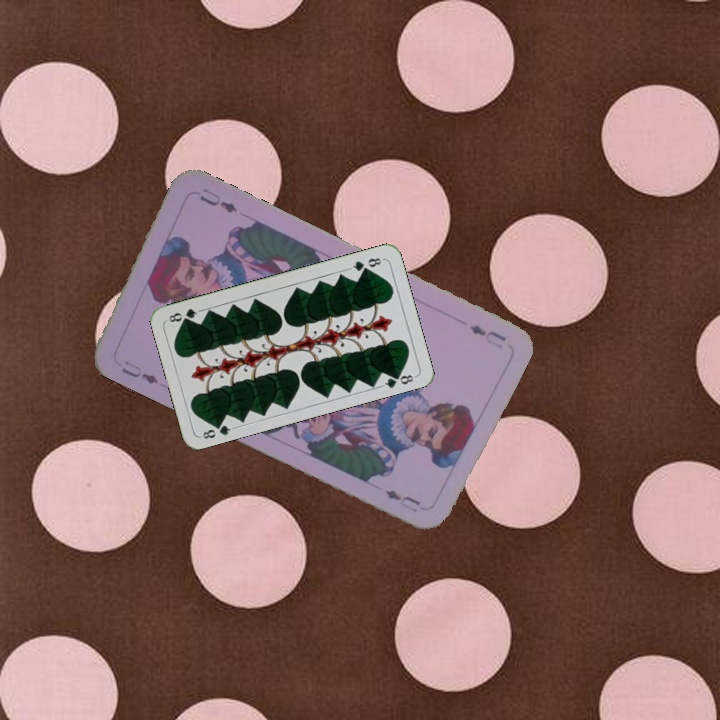EU: (465, 321, 509, 351), (117, 358, 161, 387)
G8: (198, 418, 237, 442), (346, 254, 386, 274)
